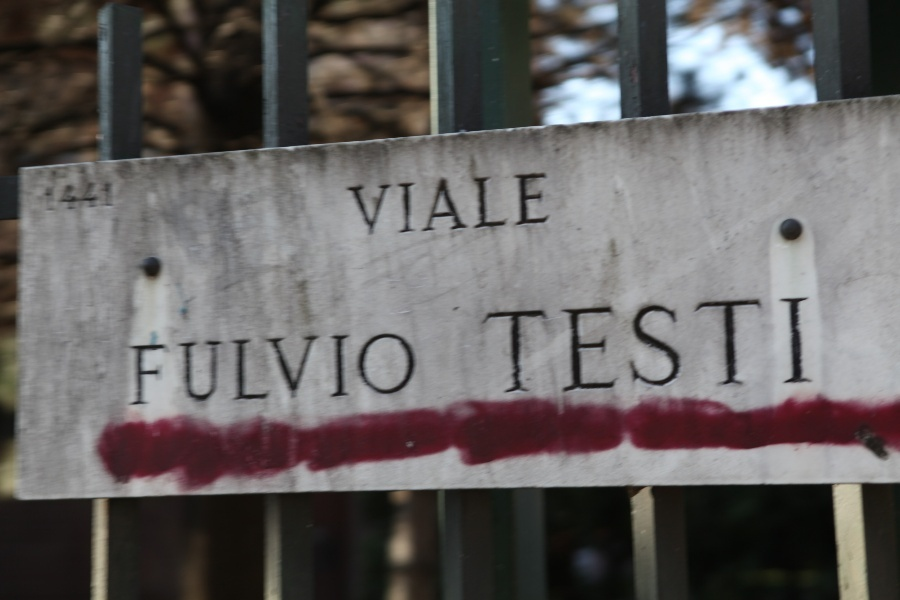text: (481, 297, 496, 396), (497, 297, 512, 396), (513, 297, 528, 396), (529, 297, 544, 396), (545, 297, 560, 396), (561, 297, 576, 396), (577, 297, 592, 396), (593, 297, 608, 396), (609, 297, 624, 396), (625, 297, 640, 396), (641, 297, 656, 396), (657, 297, 672, 396), (673, 297, 688, 396), (689, 297, 704, 396), (705, 297, 720, 396), (721, 297, 736, 396), (737, 297, 752, 396), (753, 297, 768, 396), (769, 297, 784, 396), (785, 297, 800, 396), (801, 297, 815, 396), (129, 330, 144, 408), (145, 330, 160, 408), (161, 330, 176, 408), (177, 330, 192, 408), (193, 330, 208, 408), (209, 330, 224, 408), (225, 330, 240, 408), (241, 330, 256, 408), (257, 330, 272, 408), (273, 330, 288, 408), (289, 330, 304, 408), (305, 330, 320, 408), (321, 330, 336, 408), (337, 330, 352, 408), (353, 330, 368, 408), (369, 330, 384, 408), (385, 330, 400, 408), (401, 330, 416, 408), (353, 170, 368, 242), (369, 170, 384, 242), (385, 170, 400, 242), (401, 170, 416, 242), (417, 170, 432, 242), (433, 170, 448, 242), (449, 170, 464, 242), (465, 170, 480, 242), (481, 170, 496, 242), (497, 170, 512, 242), (513, 170, 528, 242), (529, 170, 544, 242), (340, 170, 352, 242), (49, 181, 64, 221), (65, 181, 80, 221), (81, 181, 96, 221), (97, 181, 112, 221), (545, 170, 552, 242), (476, 297, 480, 396), (39, 181, 48, 221), (113, 181, 118, 221)
